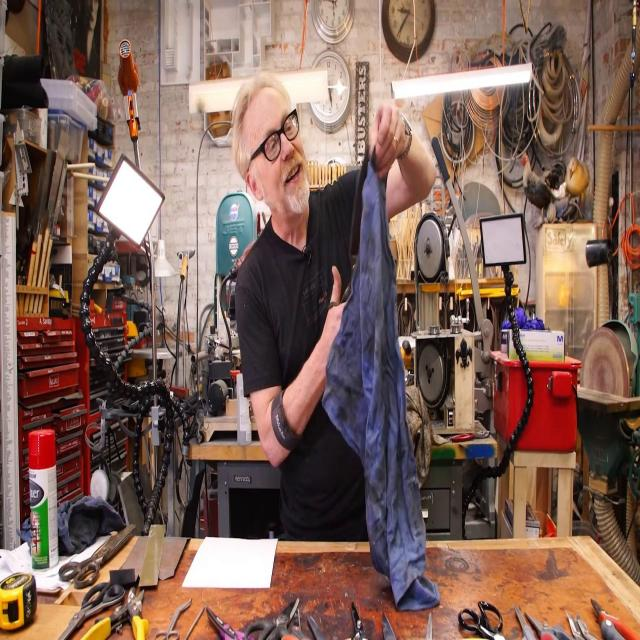scissor: (330, 148, 379, 336), (61, 524, 135, 590), (57, 583, 124, 640), (246, 597, 300, 640), (460, 600, 508, 640), (205, 604, 253, 640), (155, 600, 193, 640), (526, 610, 572, 640), (280, 609, 312, 640), (516, 601, 540, 640)
